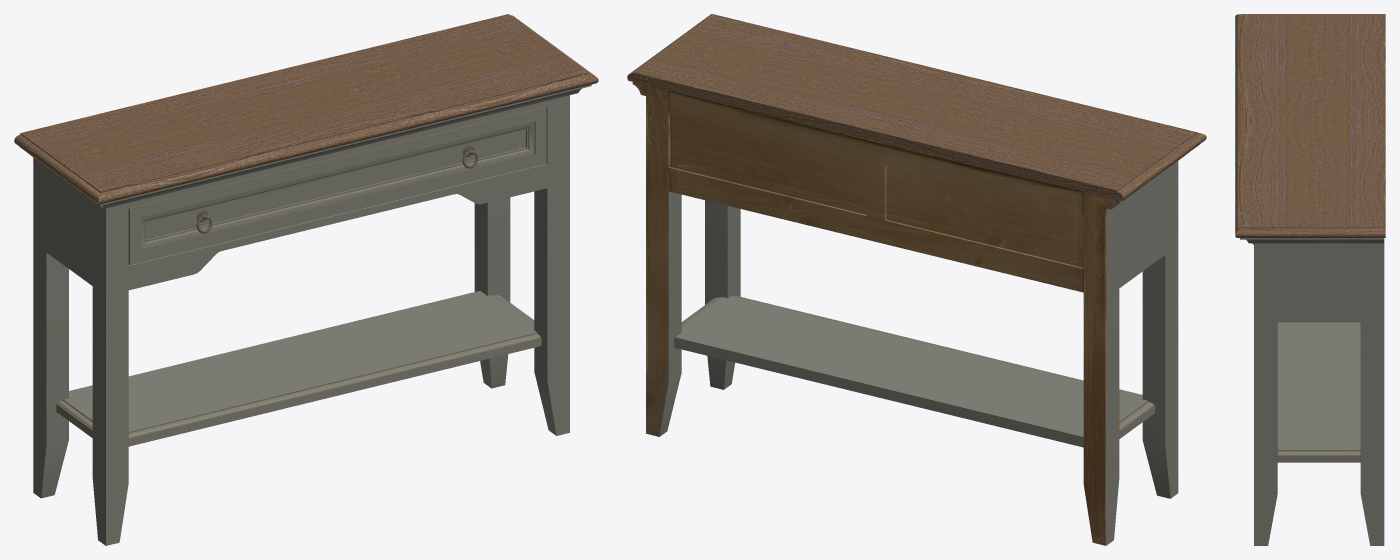
Rendered from example78.gltf.
3 renders of one model, left to right at view 1: azimuth 30°, elevation 25°; view 2: azimuth 150°, elevation 25°; view 3: azimuth 270°, elevation 25°, orthographic. The views are drawn at different scales.
Bounding box in the file's own units: 110 × 76 × 31.99.
4 materials, 4 textured.
